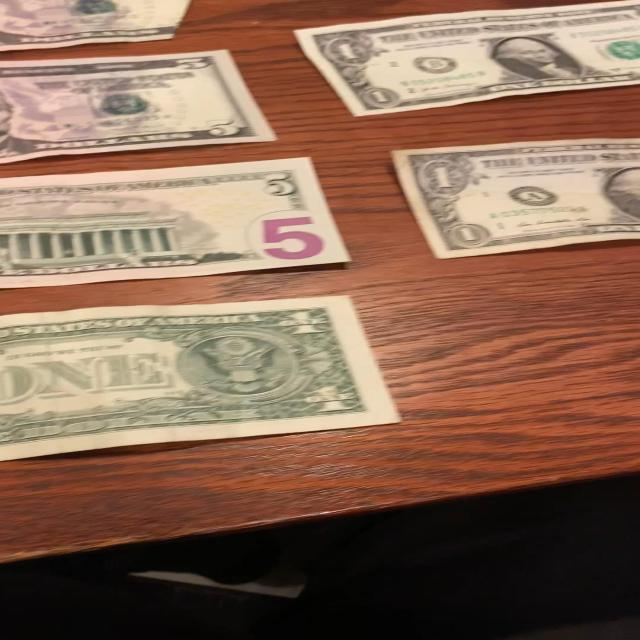1-Back: (0, 290, 410, 460)
1-Front: (291, 2, 640, 118), (384, 130, 640, 270)
5-Back: (0, 153, 354, 297)
5-Front: (0, 35, 283, 166)
